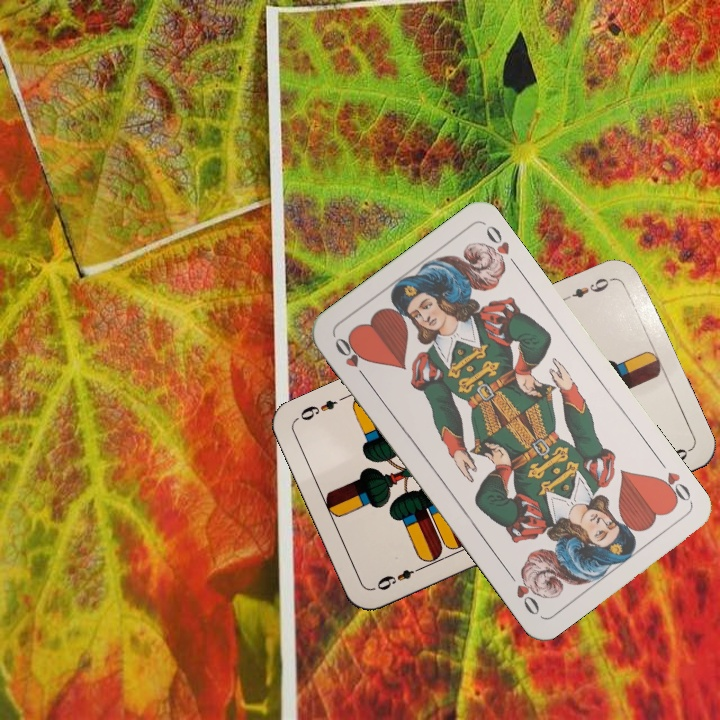E9: (559, 273, 615, 303), (372, 562, 426, 593)
HO: (652, 454, 694, 508), (330, 333, 371, 384)
